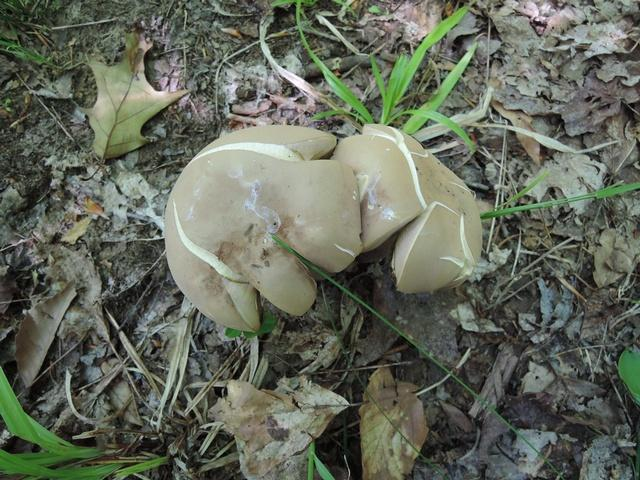Non-edible Mushroom: (162, 120, 483, 333)
